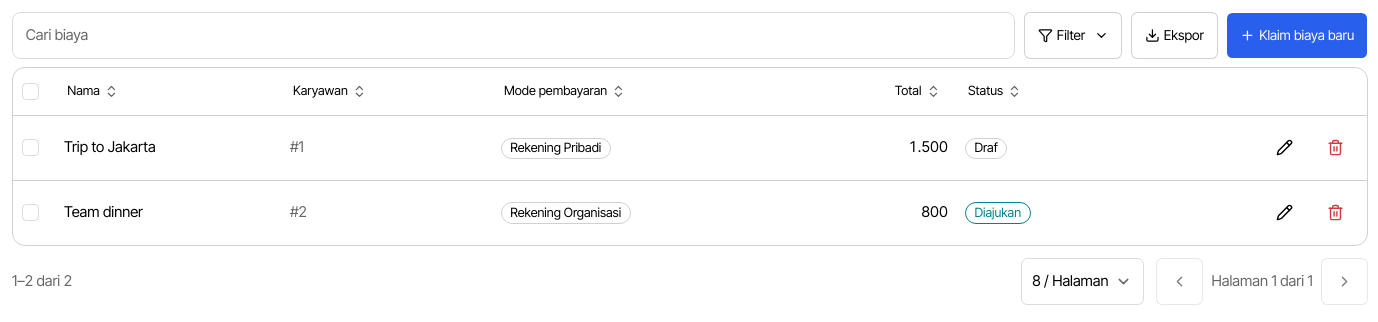
Scenario: ExpensesSection › filters reports by search
Check: the link "Trip to Jakarta" is shown, box [64,138,156,156]
In the search field with placeholder "Cari biaya": (514, 35) [12,12,1016,59], type "dinner"
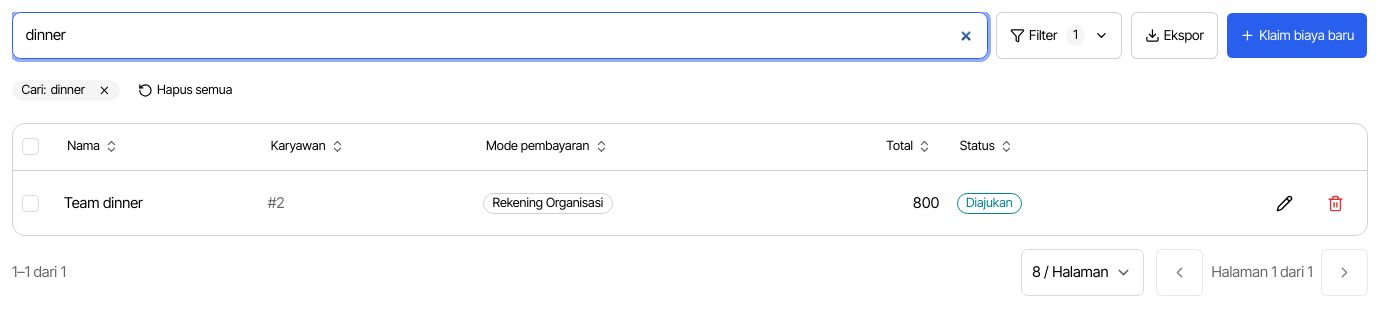
Check: the link "Team dinner" is shown, box [64,194,143,212]
Check: the link "Trip to Jakarta" is gone
